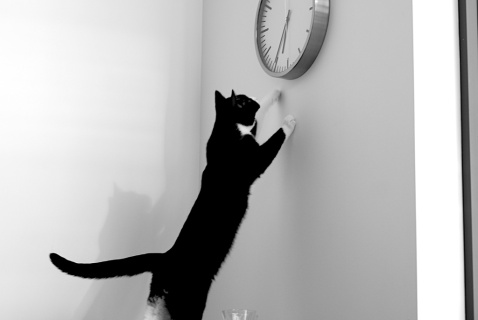Cat: (48, 87, 295, 319)
